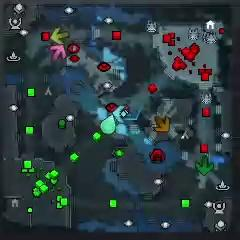p2: (101, 114, 116, 134)
x1: (49, 45, 67, 61)
x2: (50, 26, 69, 44)
x3: (113, 105, 131, 122)
x4: (195, 154, 214, 176)
x5: (153, 115, 170, 133)
